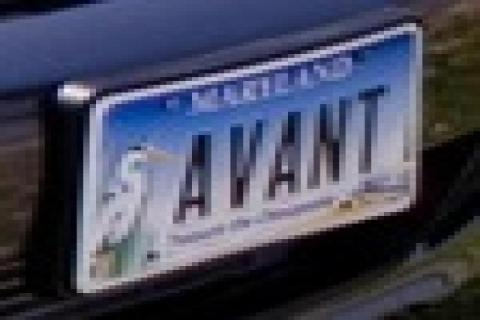LicensePlate: (28, 8, 454, 306)
